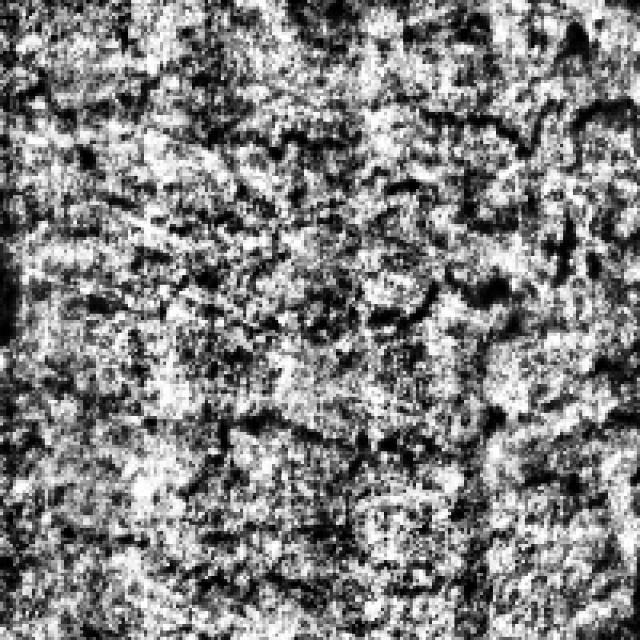Pitted_Surface: (143, 80, 582, 515)
